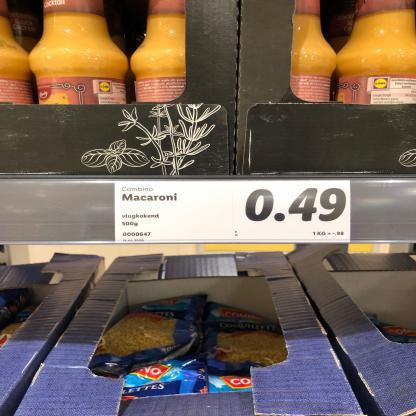prtg: (115, 181, 352, 245)
